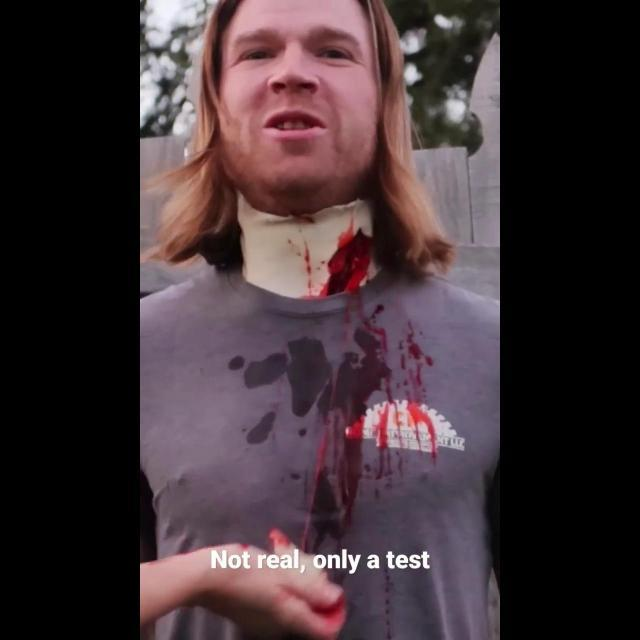blood: (300, 292, 438, 554), (300, 216, 372, 297), (314, 597, 346, 619)
